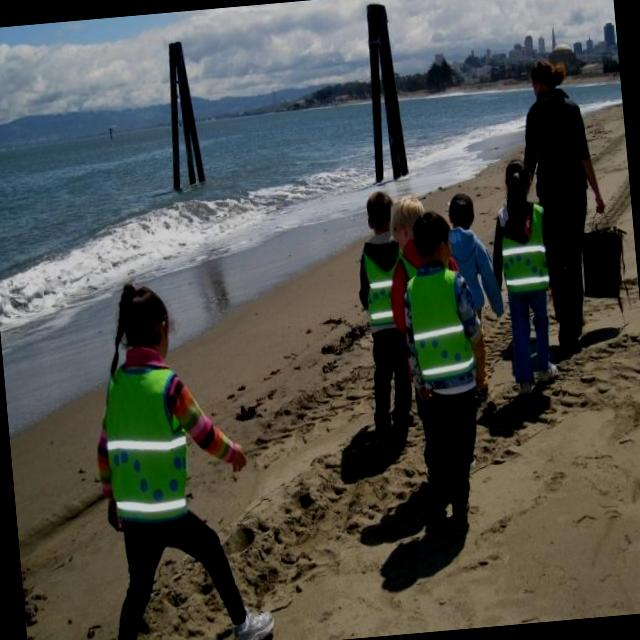no-boots: (225, 597, 289, 640)
no-gloves: (219, 418, 250, 478)
no-helmet: (87, 268, 194, 377), (402, 204, 462, 280), (372, 182, 440, 248), (362, 180, 406, 255), (506, 56, 569, 102), (444, 182, 490, 225), (491, 148, 530, 197)
no-vest: (509, 80, 602, 216)
vest: (96, 361, 195, 513), (405, 260, 473, 386), (354, 236, 406, 327), (498, 200, 550, 290)
